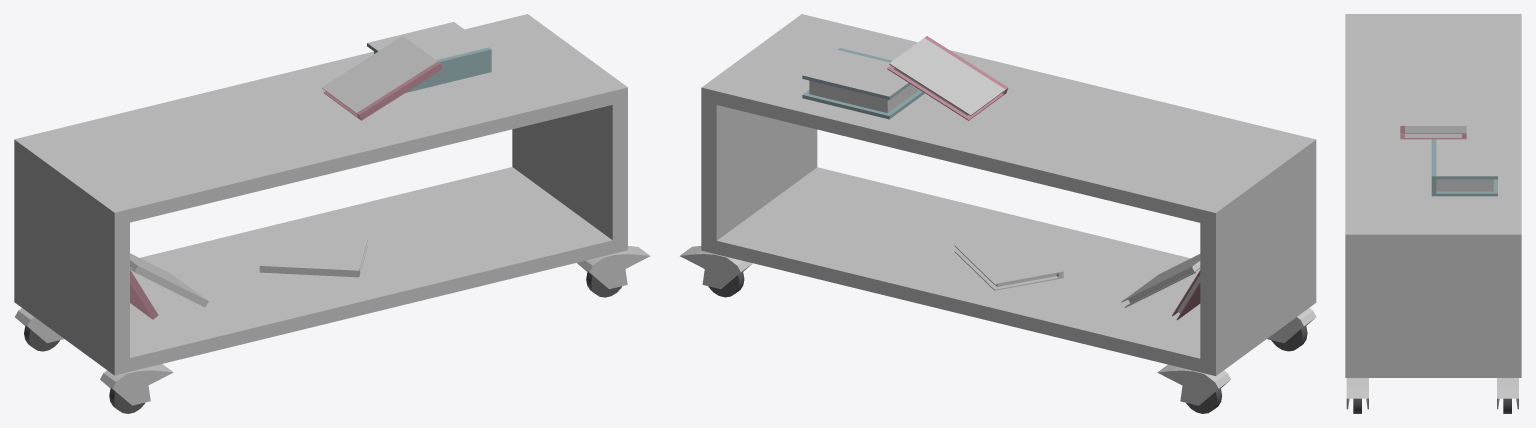
File: LowTable.fbx
The picture shows the model from 3 angles, left to right: view 1: azimuth 30°, elevation 25°; view 2: azimuth 150°, elevation 25°; view 3: azimuth 270°, elevation 25°; orthographic projection. The views are drawn at different scales.
Parts seen in each view (by area): view 1: Box003; view 2: Box003; view 3: Box003.
Boxes of the visible parts, x1,y1,x2,y2 form: Box003: (14, 14, 650, 413); Box003: (680, 14, 1316, 413); Box003: (1345, 14, 1521, 413).
Bounding box in the file's own units: 315 × 139 × 102.
